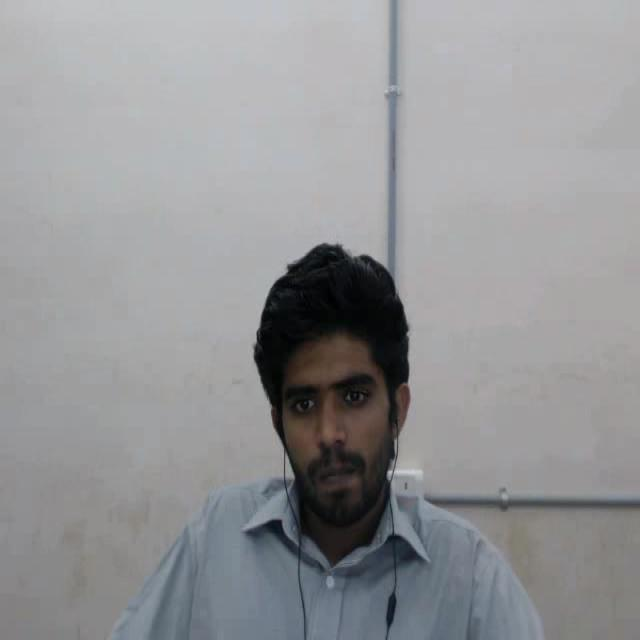Engaged: (202, 184, 496, 580)
